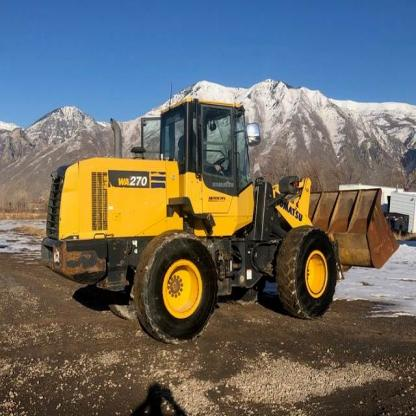bull_dozer/loader/grader: (32, 92, 405, 344)
